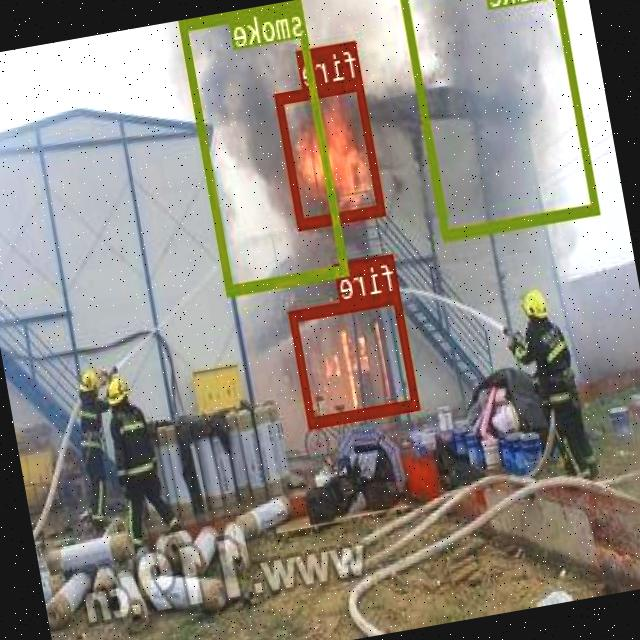fire: (289, 288, 420, 426), (276, 77, 385, 226)
smoke: (179, 0, 350, 292), (399, 0, 600, 238)
